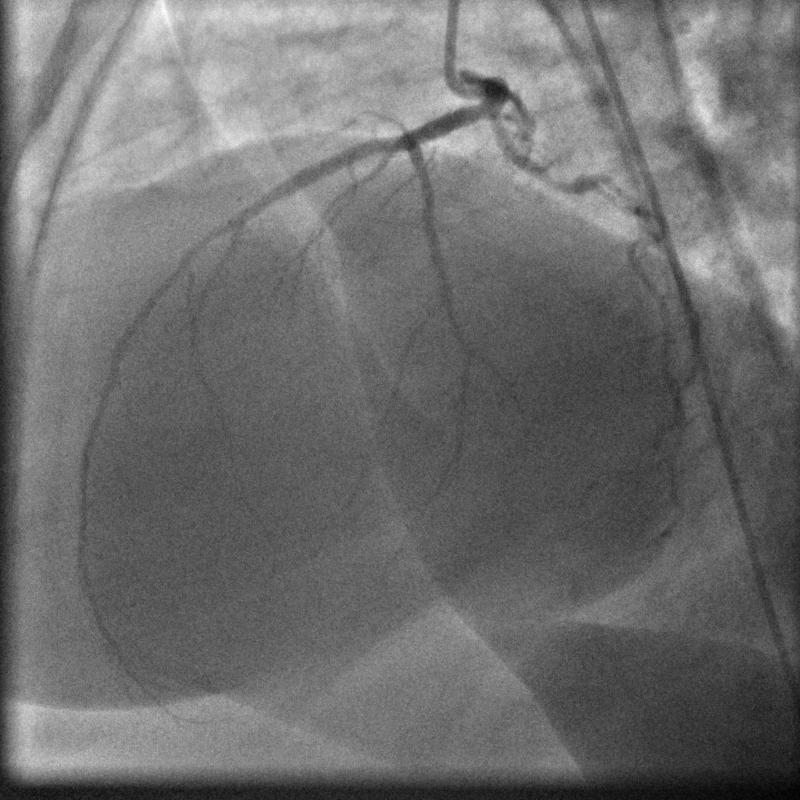Stenosis: (539, 159, 579, 200)
